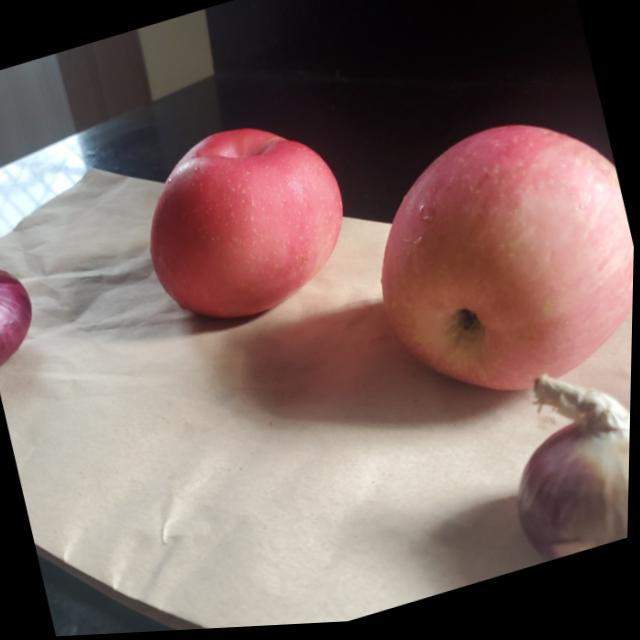apple: (350, 98, 638, 427), (127, 99, 367, 338)
onion: (491, 351, 633, 572), (0, 246, 44, 371)
